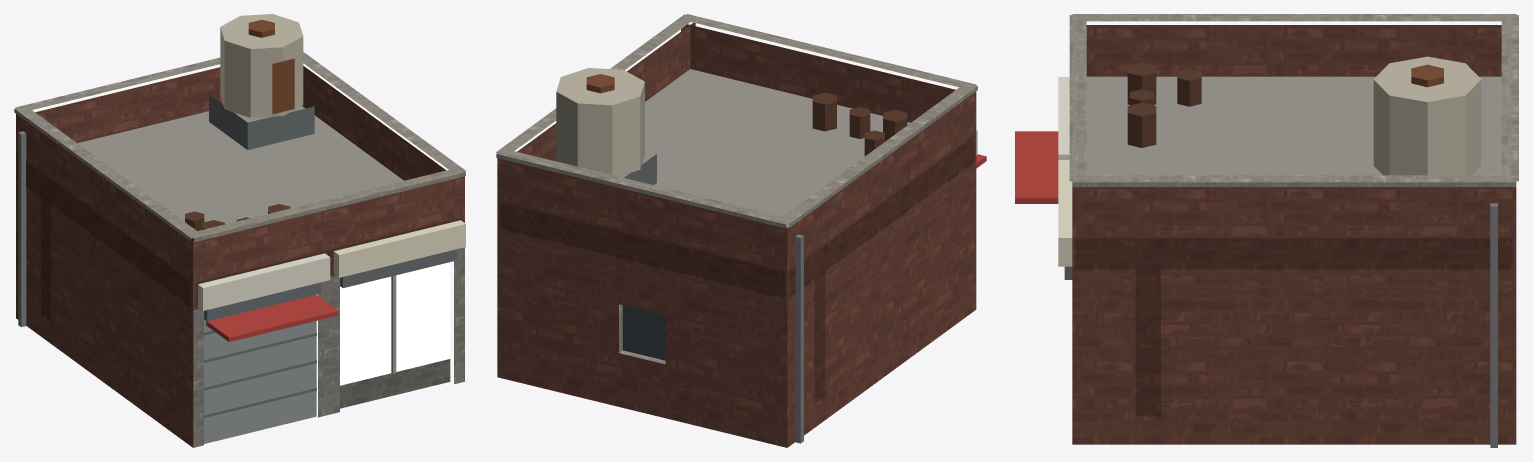
The model's file is seoul_oldshop_00.glb.
3 views of the same model, side by side, from view 1: azimuth 30°, elevation 25°; view 2: azimuth 150°, elevation 25°; view 3: azimuth 270°, elevation 25° (orthographic). The views are drawn at different scales.
Visible parts, largest first — view 1: seoul_oldshop_00_LOD0; view 2: seoul_oldshop_00_LOD0; view 3: seoul_oldshop_00_LOD0.
Part boxes in pixels (left/top/right/bottom): seoul_oldshop_00_LOD0: left=14, top=14, right=466, bottom=447; seoul_oldshop_00_LOD0: left=496, top=14, right=986, bottom=447; seoul_oldshop_00_LOD0: left=1015, top=14, right=1518, bottom=447.
Size of what is drawn, in the model's own units: 6.44 by 5.82 by 7.94.
4 materials, 1 textured.
